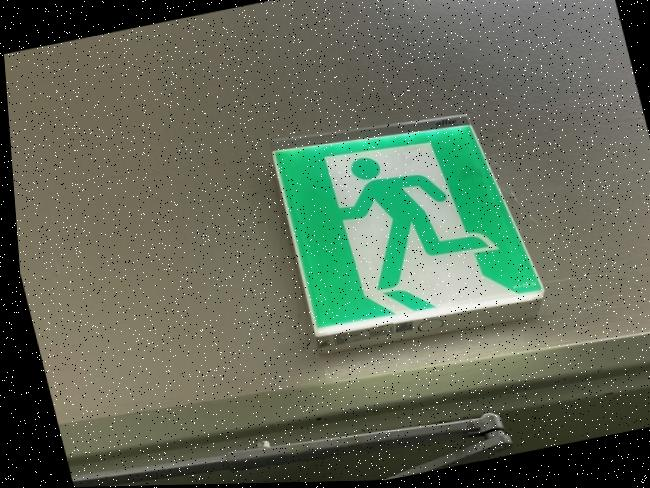emergency_exit: (271, 115, 545, 338)
